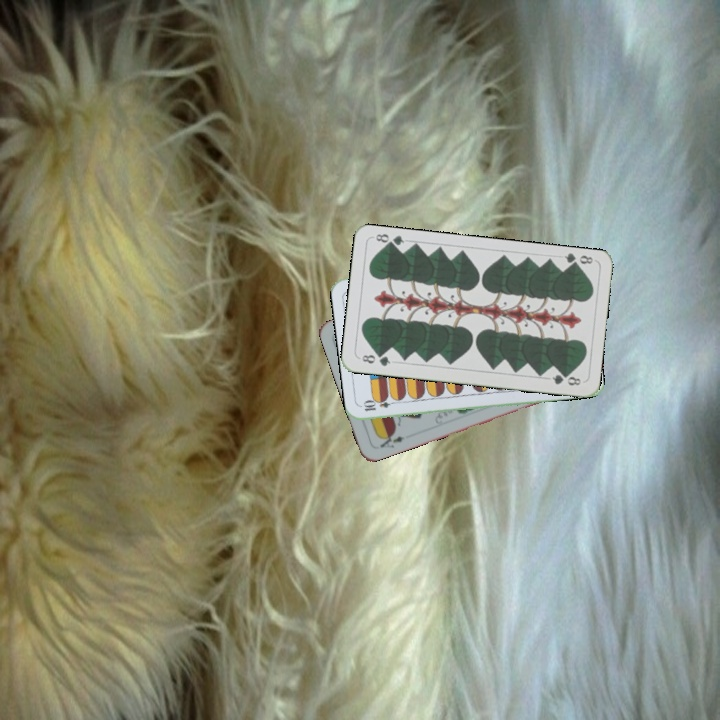E10: (359, 396, 400, 414)
EA: (376, 429, 407, 451)
G8: (560, 249, 595, 271), (358, 350, 393, 369)
